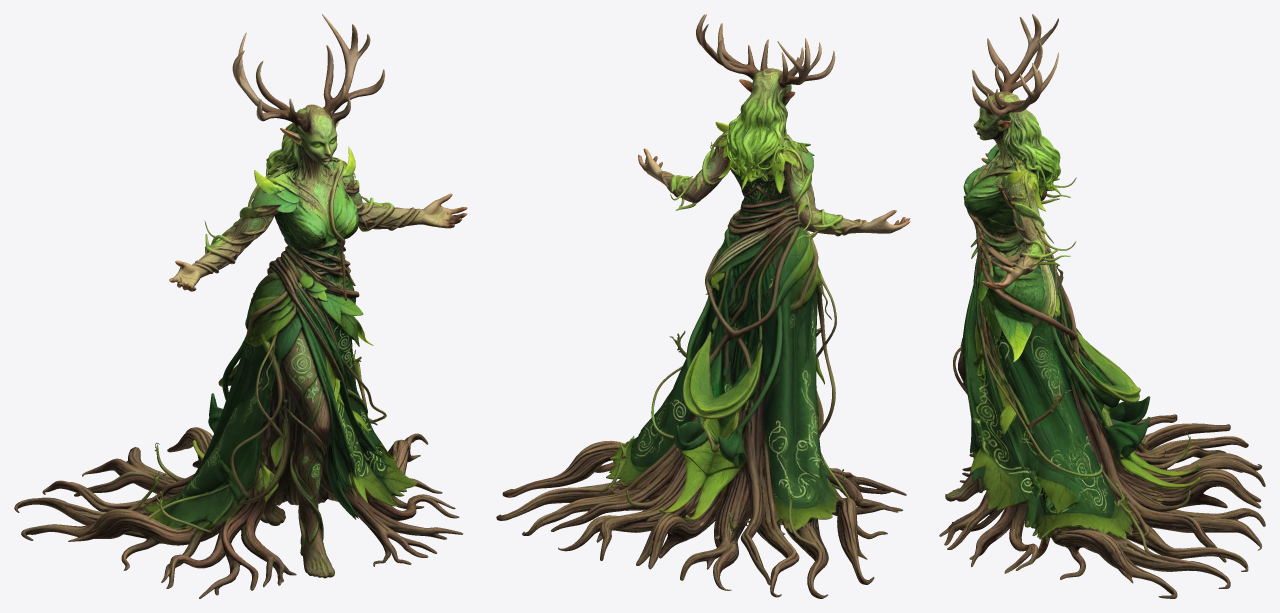
File: hero_grove.glb
3 views of the same model, side by side, from view 1: azimuth 30°, elevation 25°; view 2: azimuth 150°, elevation 25°; view 3: azimuth 270°, elevation 25° (orthographic). The views are drawn at different scales.
Size of the model in its own units: 1.56 by 1.9 by 1.19.
Materials: 1 (1 with a texture image).
